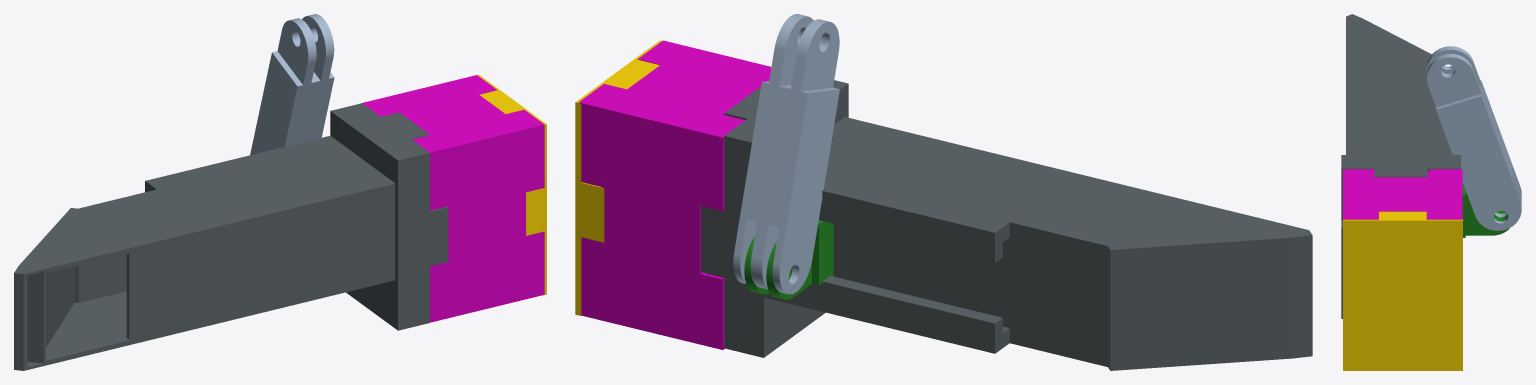
The model's file is HUD assembly.glb.
The picture shows the model from 3 angles, left to right: view 1: azimuth 30°, elevation 25°; view 2: azimuth 150°, elevation 25°; view 3: azimuth 270°, elevation 25°; orthographic projection. The views are drawn at different scales.
Visible parts, largest first — view 1: Solid5, Solid1 (×3); view 2: Solid5, Solid1 (×4); view 3: Solid1 (×4), Solid5.
Part boxes in pixels (x1,y1,x2,y2): Solid5: (14, 103, 448, 370); Solid1 (×3): (250, 14, 546, 322); Solid5: (701, 80, 1312, 370); Solid1 (×4): (575, 14, 839, 349); Solid1 (×4): (1343, 46, 1521, 370); Solid5: (1341, 14, 1460, 318).
Size of the model in its own units: 0.181 by 0.0899 by 0.0607.
